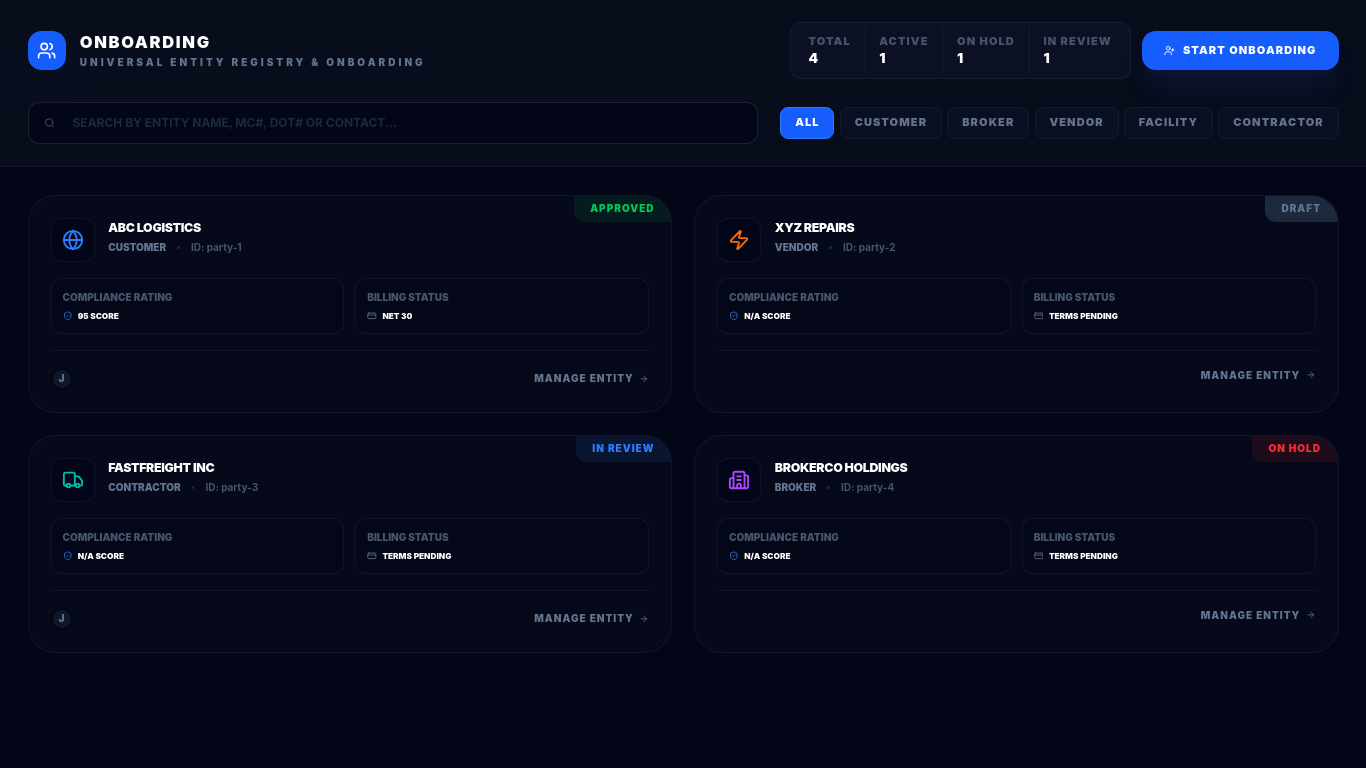
Test case: NetworkPortal component › filters by Customer type
The image size is (1366, 768).
Expected: the heading "ABC Logistics" is shown, [108,220,201,235]
Click the button "Customer". click: (891, 123)
box: [840,106,942,139]
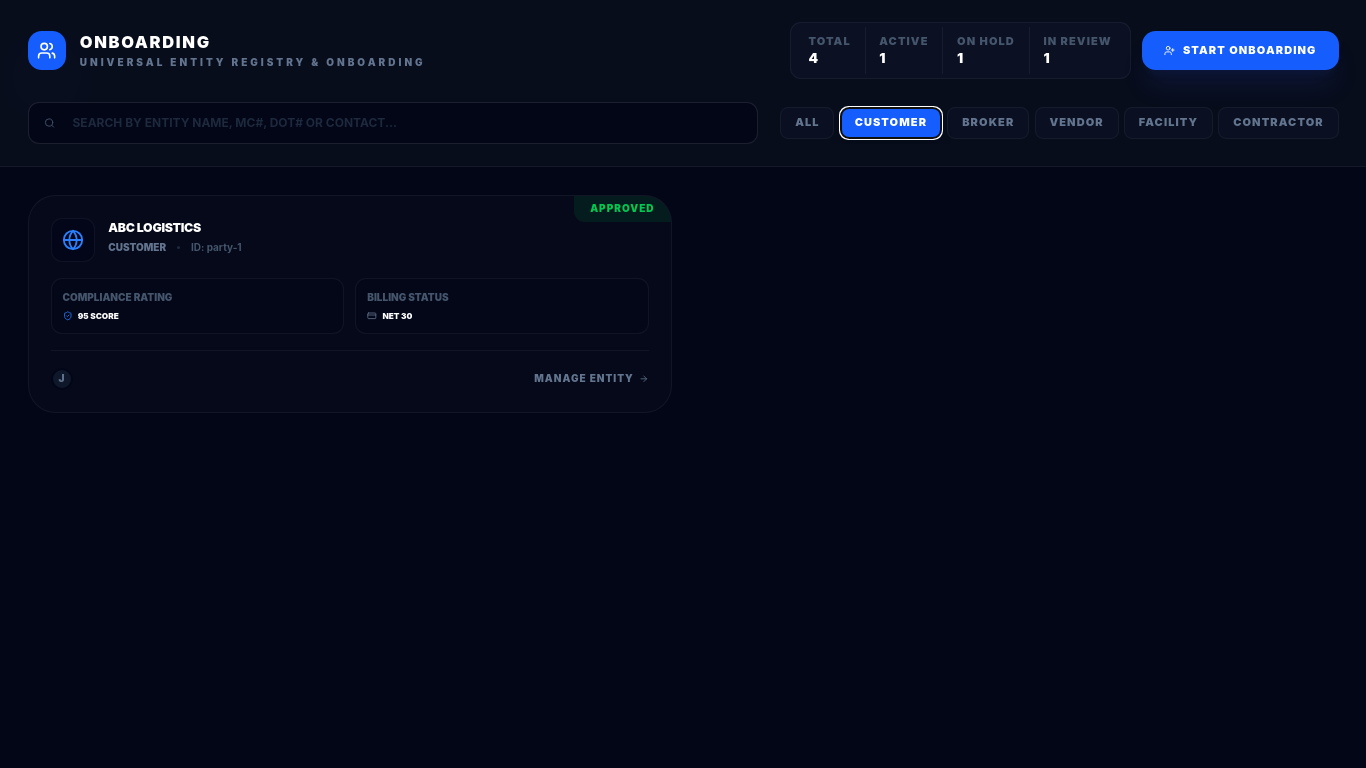
Expected: the heading "ABC Logistics" is shown, [108,220,201,235]
Expected: the heading "BrokerCo Holdings" is gone
